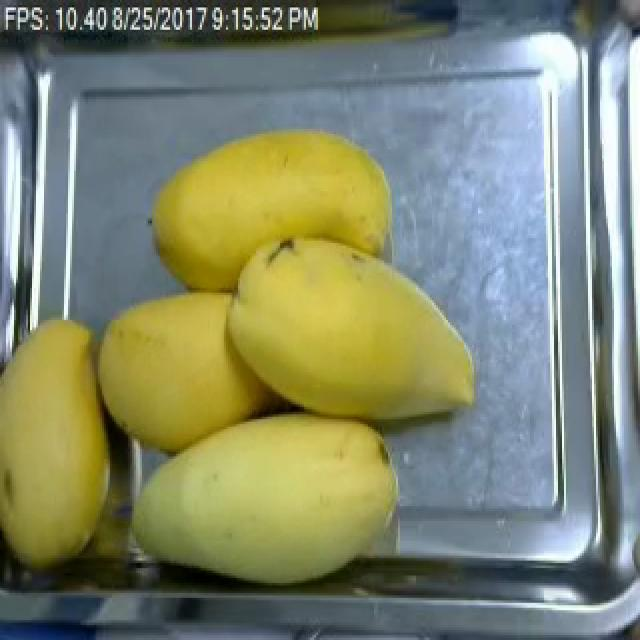fruit: (120, 399, 408, 598), (212, 228, 482, 437), (140, 119, 402, 300), (86, 280, 278, 464), (0, 313, 126, 578)
